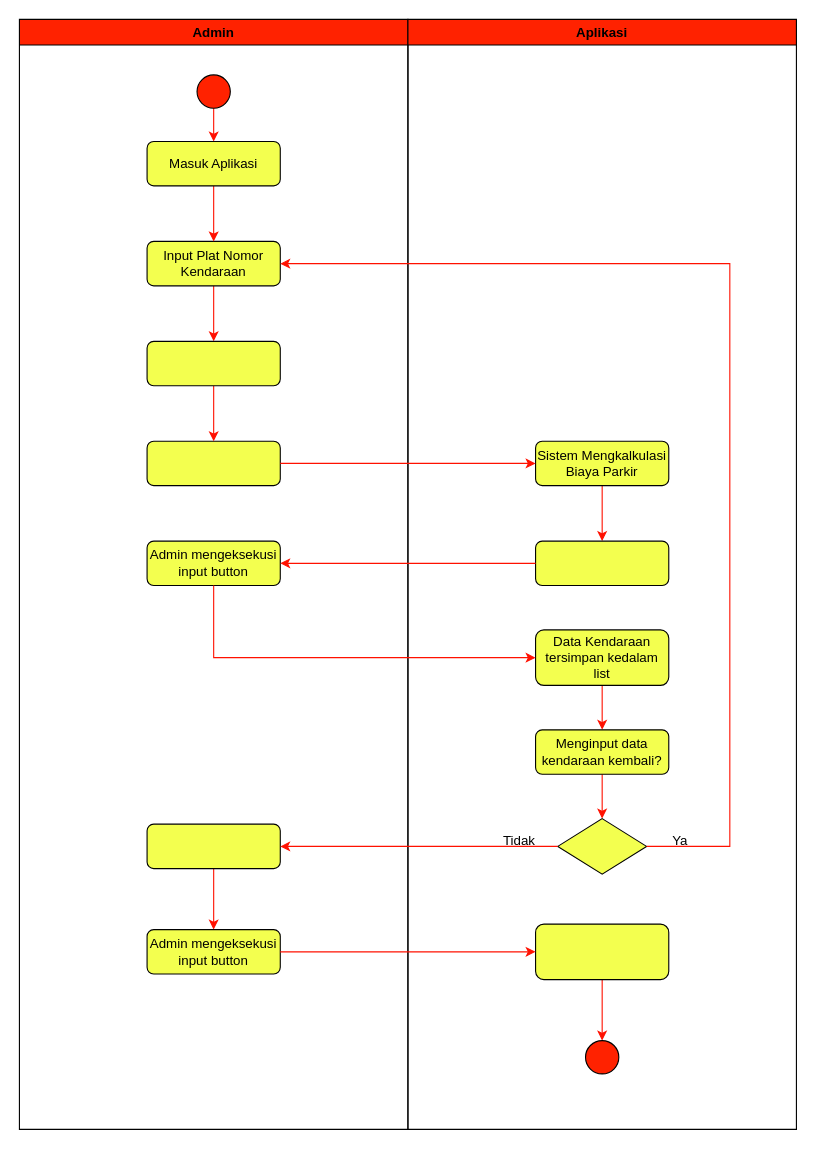
This 816x1149 diagram has some shape labels left out. The shapes that lost their labels are listed below. From the top down, each one's centre as x and y in pixels, then its label:
At point (213, 363): "Input Waktu Masuk".
At point (213, 463): "Input Waktu Keluar".
At point (601, 563): "Sistem menampilkan biaya uang parkir".
At point (213, 846): "input Nomor Polisi".
At point (601, 951): "Sistem Menampilkan Hasil pencarian admin".
